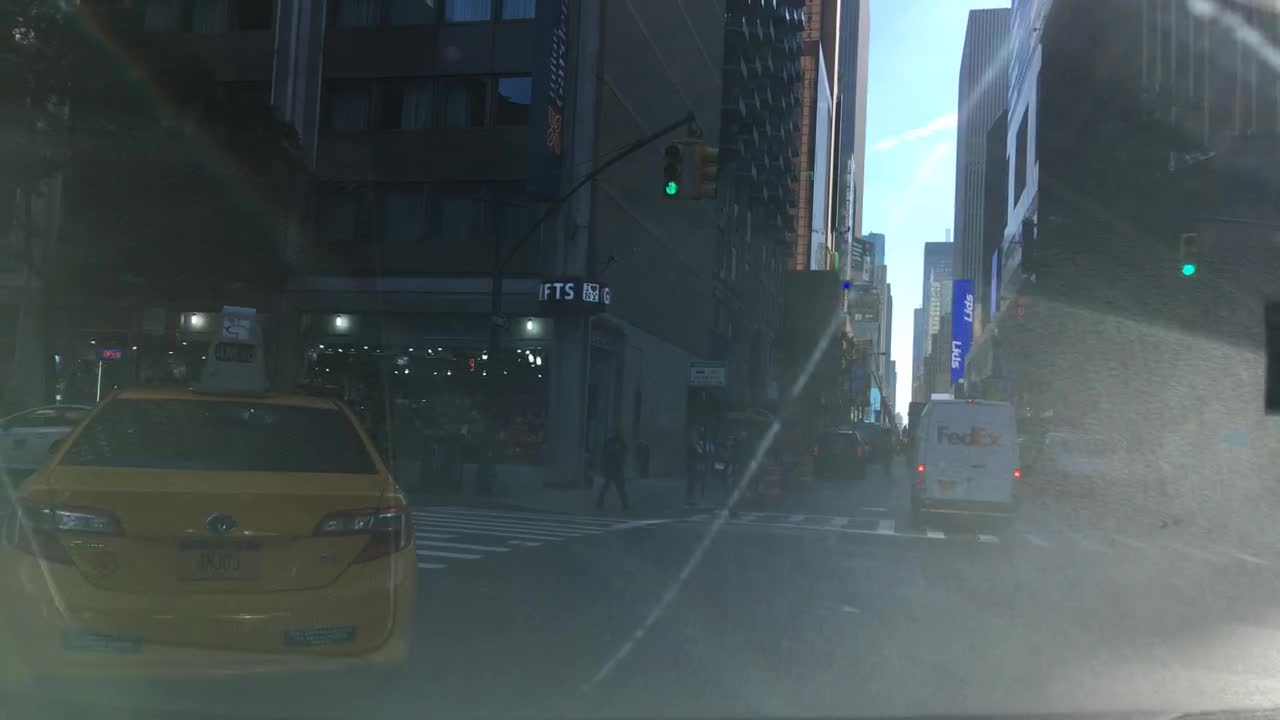car: (9, 303, 419, 711), (907, 397, 1024, 529), (1, 404, 95, 475), (1044, 428, 1118, 496), (811, 428, 866, 483)
person: (592, 428, 634, 514), (878, 425, 895, 483), (637, 439, 657, 480)
traffic light: (689, 143, 725, 198), (661, 140, 682, 198), (1173, 232, 1199, 278)
traffic sign: (686, 357, 727, 388)
